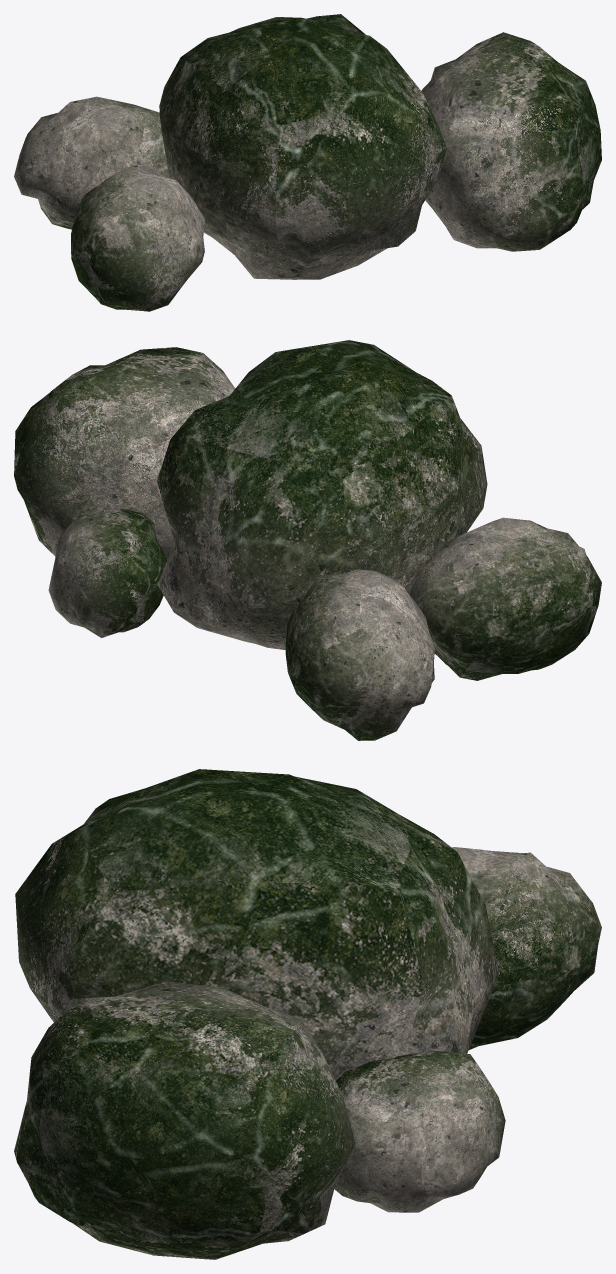
File: rock_game_assets (1).glb
3 views of the same model, one above another, from view 1: azimuth 30°, elevation 25°; view 2: azimuth 150°, elevation 25°; view 3: azimuth 270°, elevation 25° (orthographic). The views are drawn at different scales.
Visible parts, largest first — view 1: Object_3; view 2: Object_3; view 3: Object_3.
Boxes of the visible parts, x1,y1,x2,y2 form: Object_3: (14, 14, 601, 311); Object_3: (14, 340, 601, 740); Object_3: (14, 769, 601, 1259).
Size of the model in its own units: 4.73 by 2.12 by 3.33.
1 material, 1 textured.
